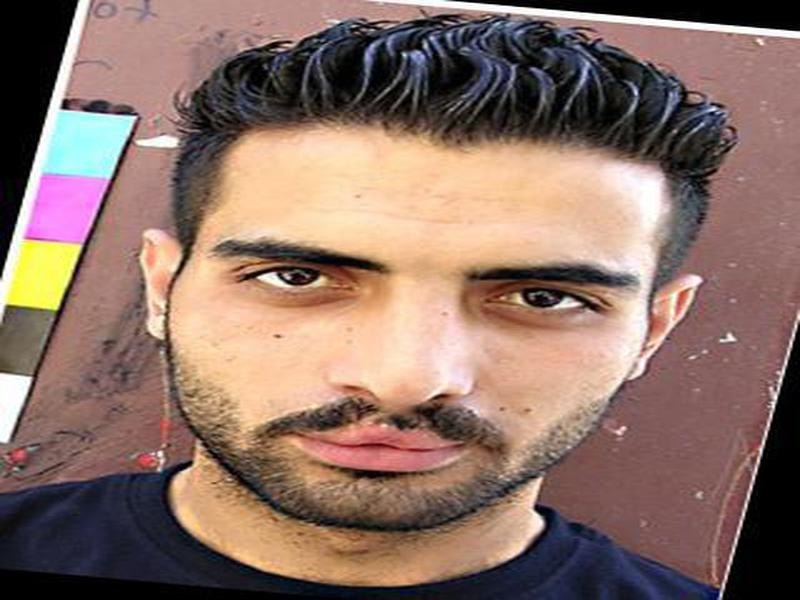without_mask: (168, 131, 661, 533)
